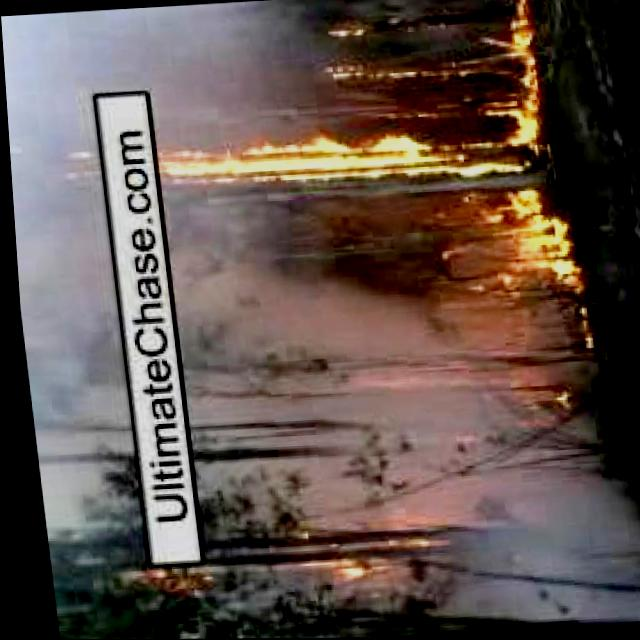Fire: (156, 114, 554, 203), (476, 182, 575, 318), (298, 516, 434, 585), (475, 0, 547, 112), (319, 57, 453, 86), (504, 387, 578, 418), (131, 558, 194, 593), (325, 23, 380, 40)
Smoke: (153, 179, 640, 639)
